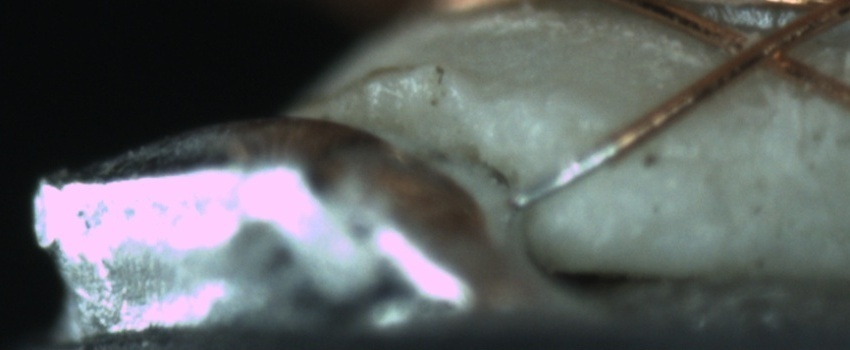CL: (716, 12, 816, 82)
TS: (509, 140, 616, 211)
